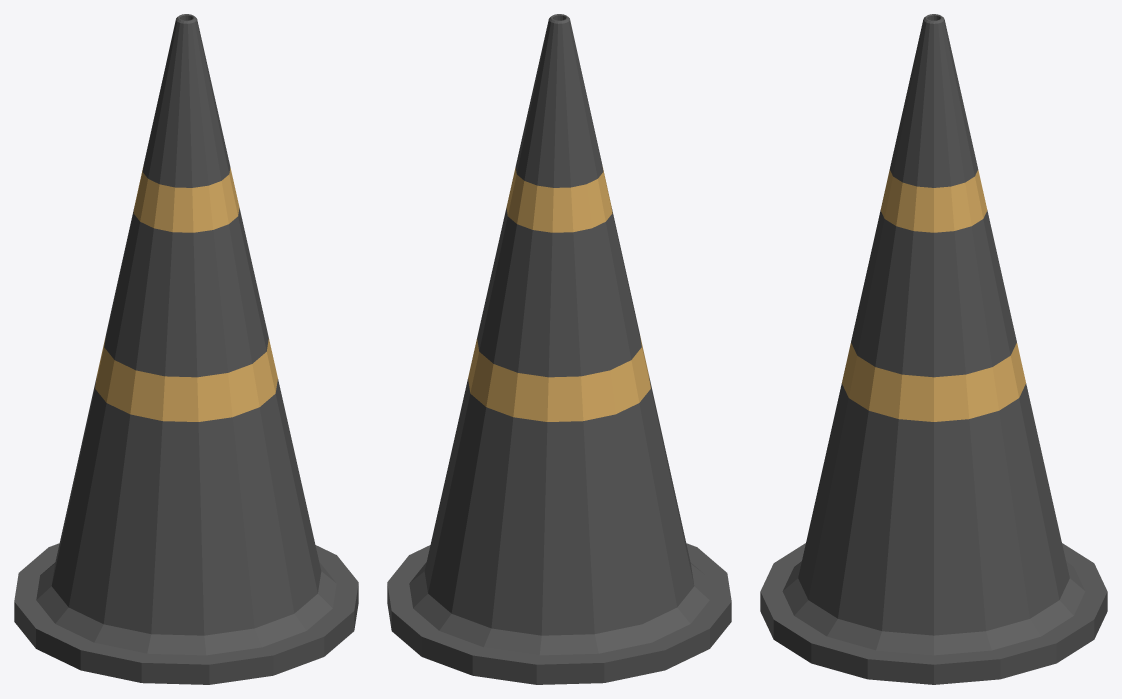
3 renders of one model, left to right at view 1: azimuth 30°, elevation 25°; view 2: azimuth 150°, elevation 25°; view 3: azimuth 270°, elevation 25°, orthographic.
Visible parts, largest first — view 1: 柱体; view 2: 柱体; view 3: 柱体.
Boxes of the visible parts, left/top/right/bottom form: 柱体: left=14, top=14, right=358, bottom=684; 柱体: left=387, top=14, right=731, bottom=684; 柱体: left=760, top=14, right=1107, bottom=684.
Bounding box in the file's own units: 54.51 × 103 × 54.51.
